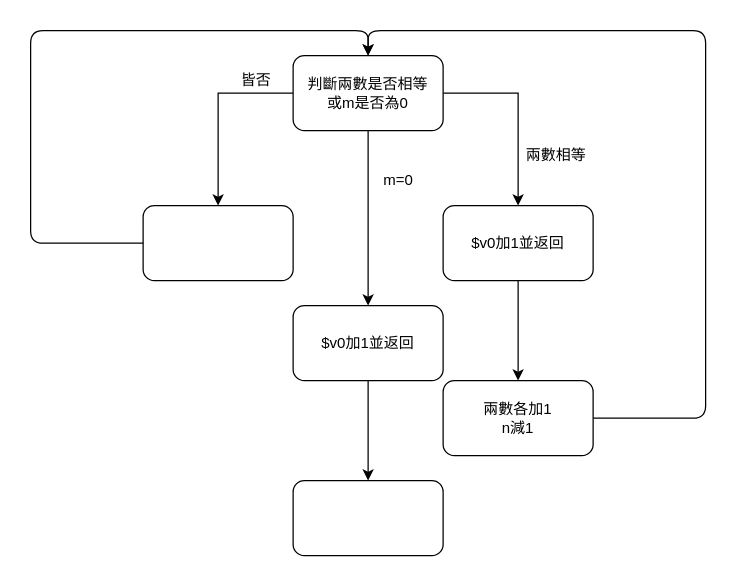
The diagram is 738 pixels wide and 578 high, and some of its shapes have lost their labels. Each missing label, with the box of its shape:
n加1並返回: (292, 479, 443, 556)
兩數各減1: (142, 204, 293, 281)
